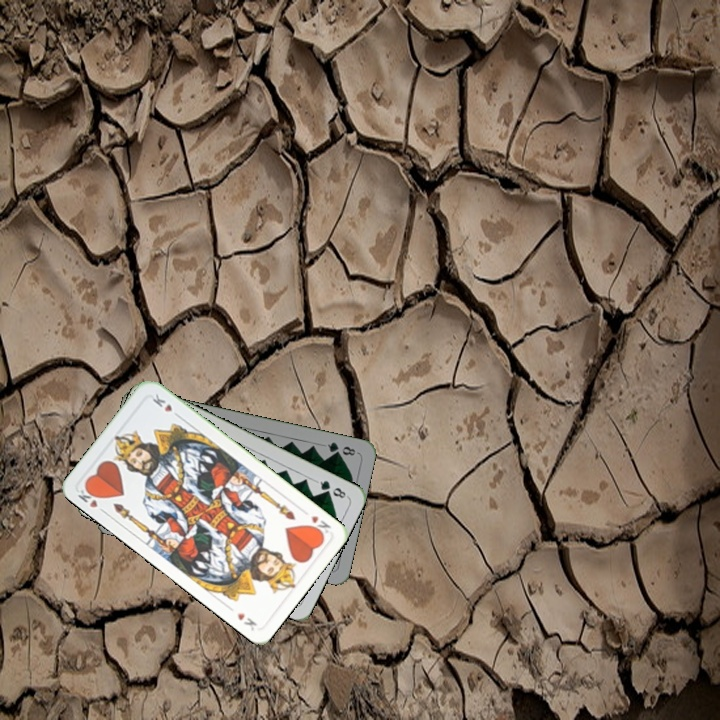G8: (312, 476, 350, 501), (323, 438, 358, 458)
HK: (74, 482, 103, 510), (305, 511, 333, 538)
